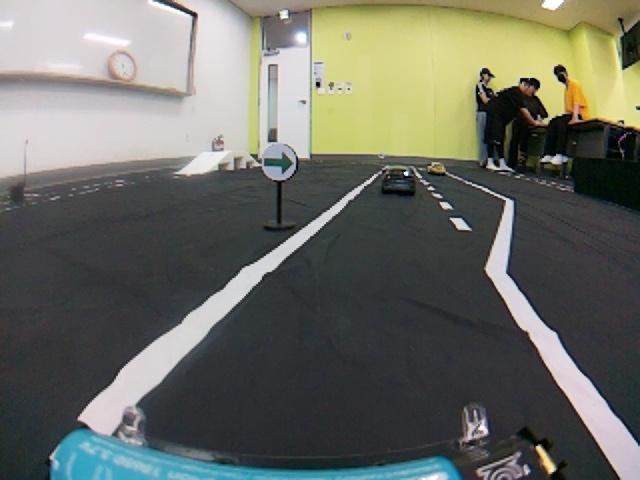car: (378, 163, 418, 197), (425, 156, 449, 176)
sign_right: (259, 142, 300, 184)
straight: (0, 159, 640, 480)
